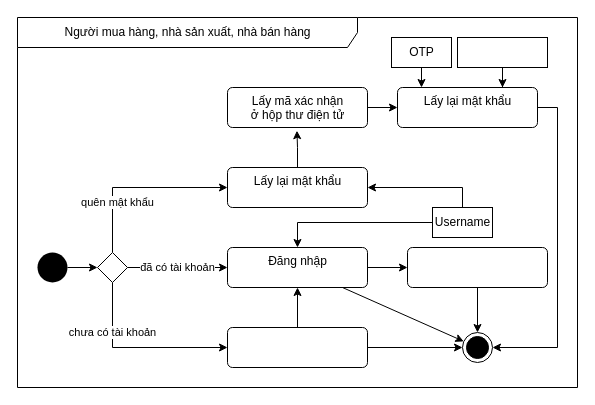
Some shapes in this 595 by 405 pixel diagram are drawn without their labels. Each missing label, with the centre of its shape:
new password: [502,52]
Đăng ký: [297,347]
Đăng xuất: [477,267]
